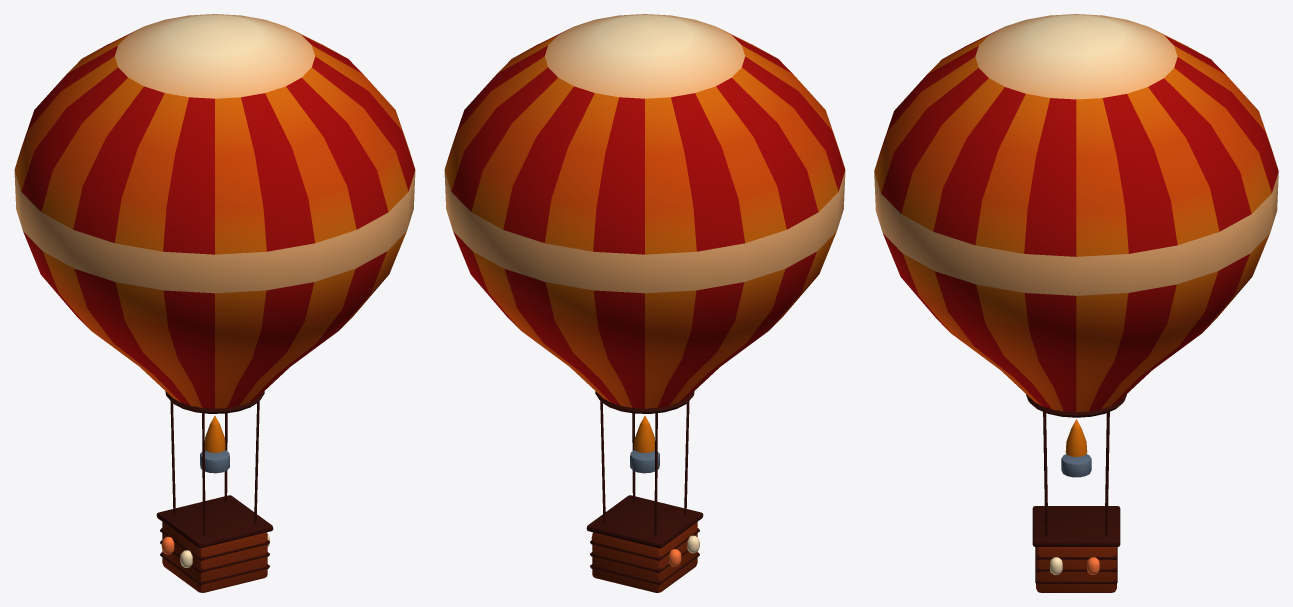
Rendered from HotAirBalloon.obj.
The picture shows the model from 3 angles, left to right: view 1: azimuth 30°, elevation 25°; view 2: azimuth 150°, elevation 25°; view 3: azimuth 270°, elevation 25°; orthographic projection.
Parts seen in each view (by area): view 1: HotAirBalloon; view 2: HotAirBalloon; view 3: HotAirBalloon.
Part boxes in pixels (x1=…): HotAirBalloon: x1=14, y1=14, x2=415, y2=592; HotAirBalloon: x1=444, y1=14, x2=845, y2=592; HotAirBalloon: x1=874, y1=14, x2=1278, y2=592.
Size of the model in its own units: 12 by 18 by 12.
